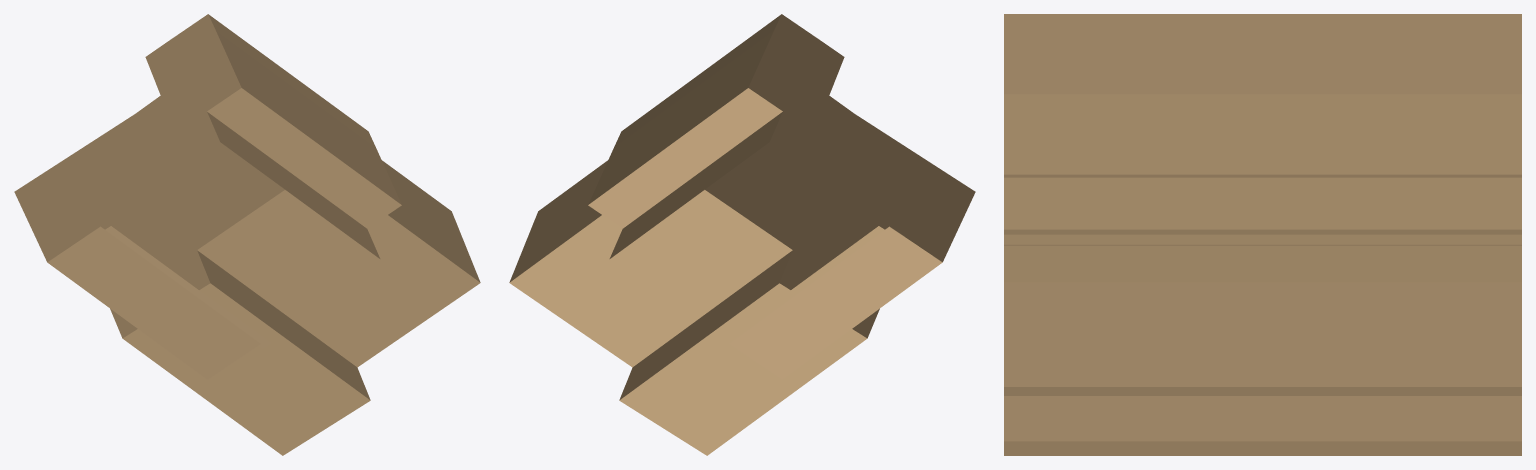
3 views of the same model, side by side, from view 1: azimuth 30°, elevation 25°; view 2: azimuth 150°, elevation 25°; view 3: azimuth 270°, elevation 25° (orthographic). The views are drawn at different scales.
Visible parts, largest first — view 1: 0_1_3_2_1_2_1_3_0; view 2: 0_1_3_2_1_2_1_3_0; view 3: 0_1_3_2_1_2_1_3_0.
Part boxes in pixels (box(x1,y1,x2,y2)): 0_1_3_2_1_2_1_3_0: box(14, 14, 480, 455); 0_1_3_2_1_2_1_3_0: box(509, 14, 975, 455); 0_1_3_2_1_2_1_3_0: box(1004, 14, 1521, 455).
Size of the model in its own units: 26.45 by 25.08 by 24.
